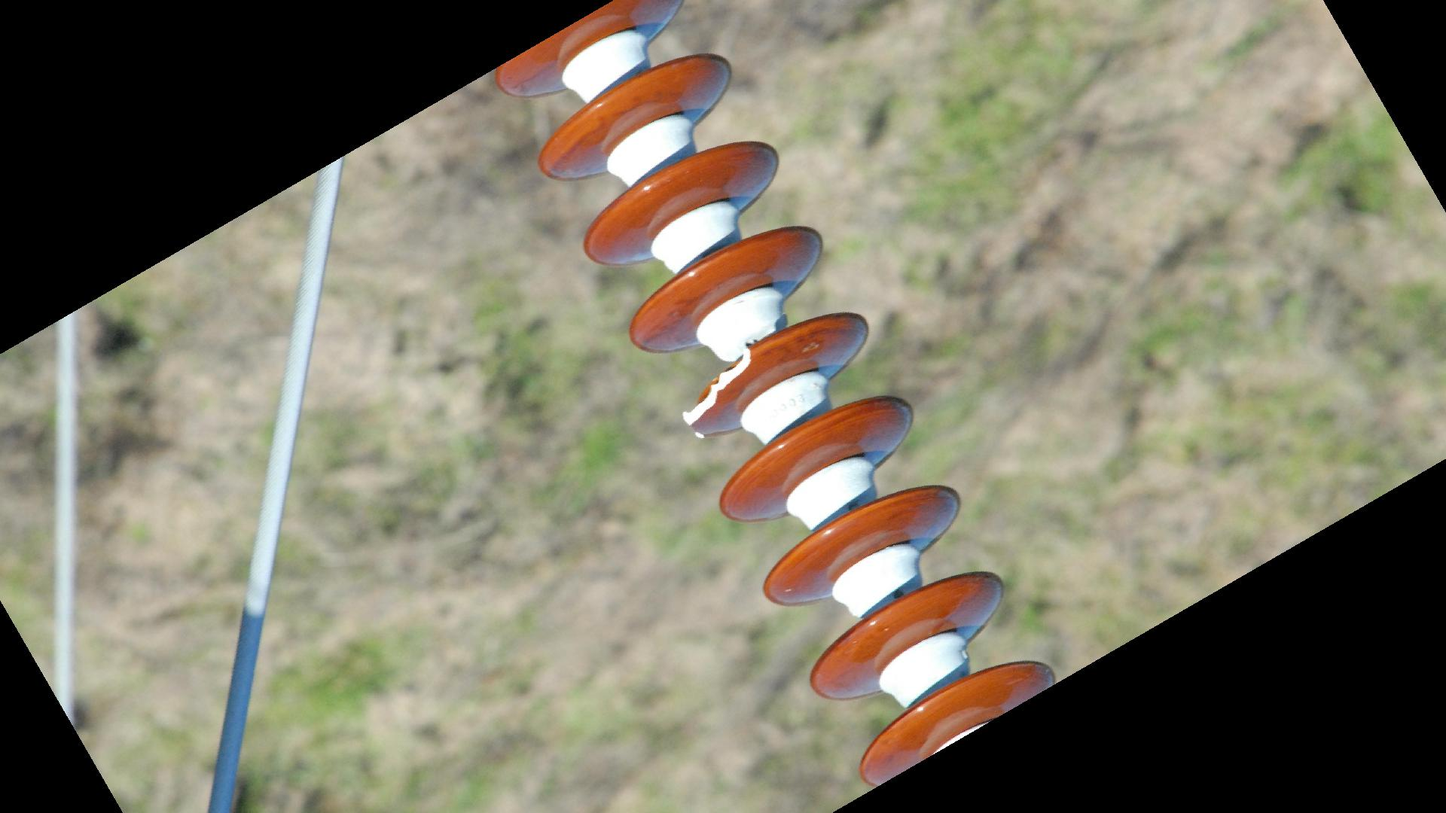insulator: (490, 1, 1065, 792)
insulator_breakage: (677, 336, 760, 445)
